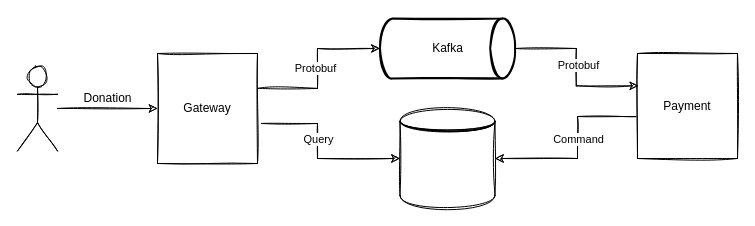
This 755x226 diagram has some shape labels left out. Each missing label, with the centre of its shape:
"MongoDB" belongs at (447,158).
"User" belongs at (37,108).
